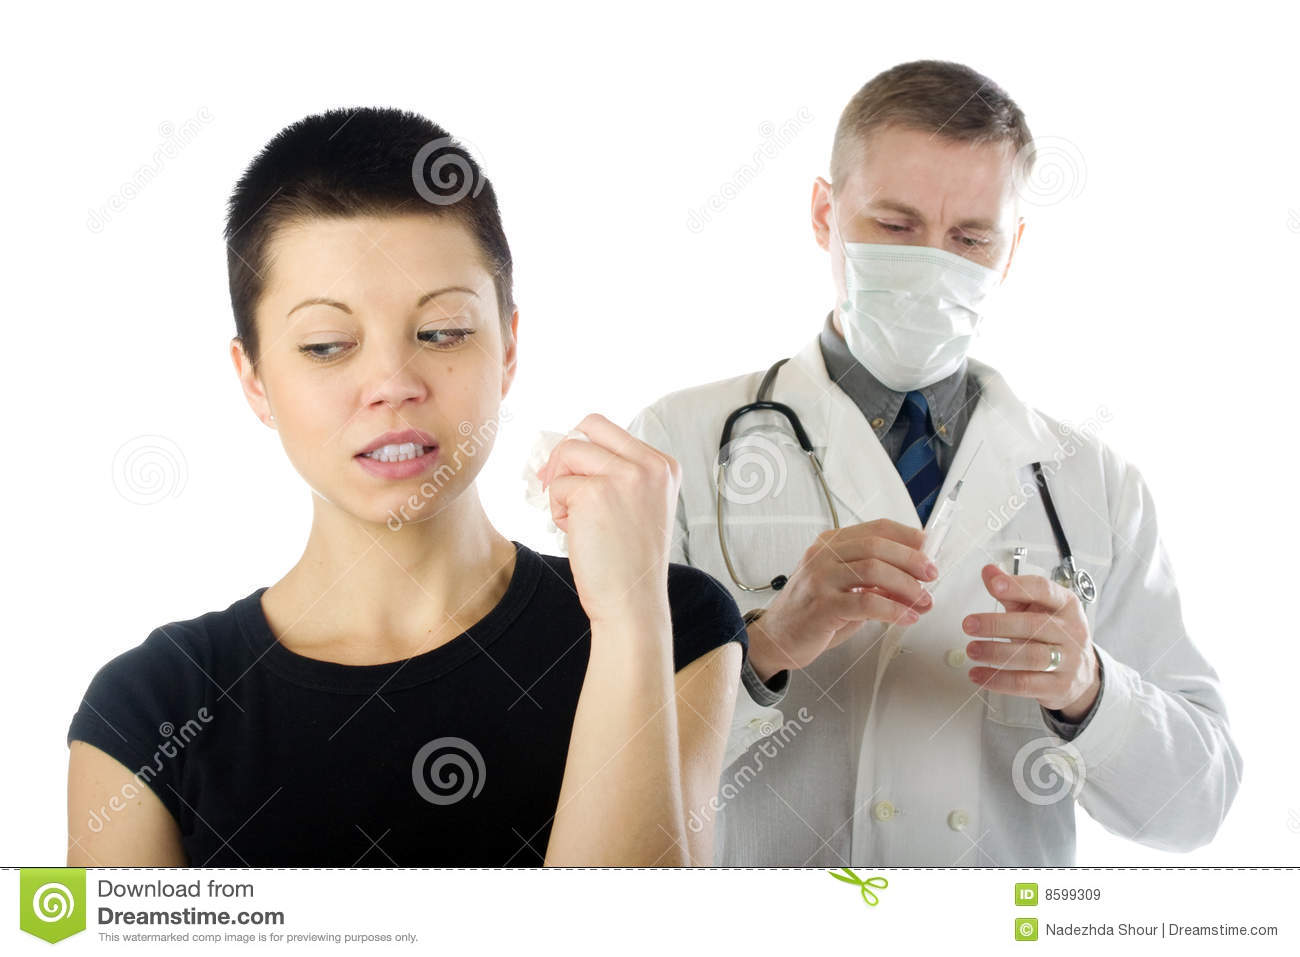mask: (833, 239, 992, 388)
